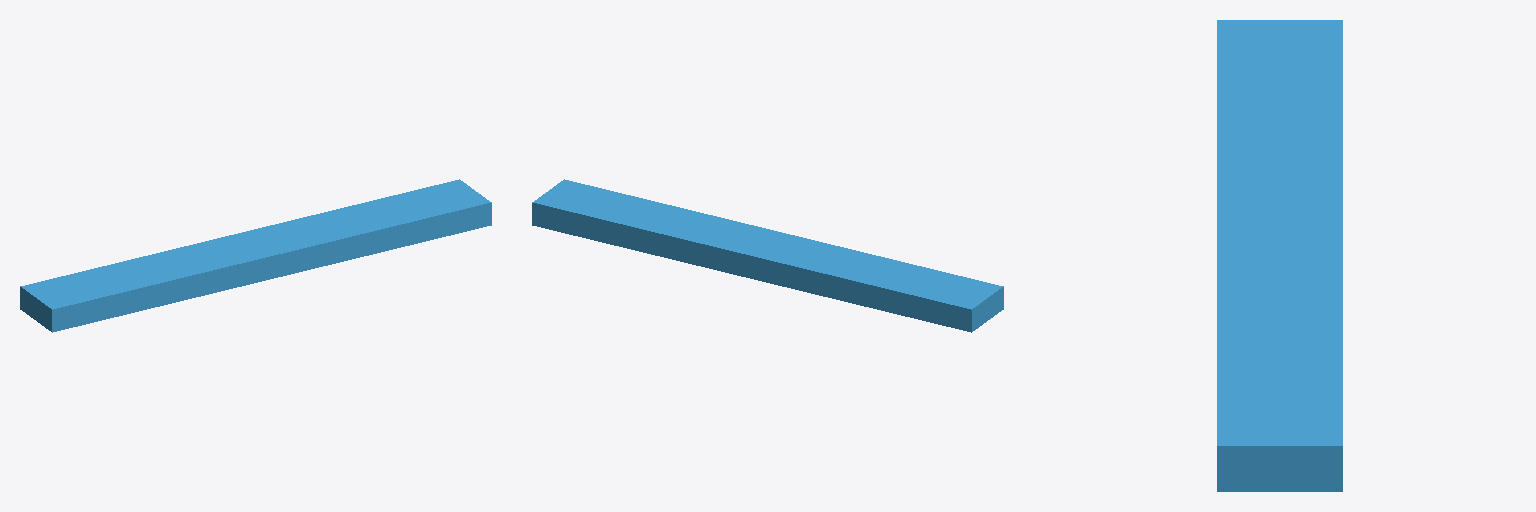
The robot description file, URDF, robot "conveyor_belt":
<?xml version="1.0"?>
<robot name="conveyor_belt">

<!-- conveyor belt is just a long flat box for objects to slide on it -->

<!-- world link -->
<link name="world"/>

<!-- base_link and its fixed joint -->
<joint name="joint_fix" type="fixed">
  <parent link="world"/>
  <child link="base_link"/>
</joint>


<link name="base_link">
  <collision>
    <origin xyz="0 0 0.1" rpy="0 0 0"/>
    <geometry>
      <box size="4 0.5 0.2"/>
    </geometry>
  </collision>

  <visual>
    <origin xyz="0 0 0.1" rpy="0 0 0"/>
    <geometry>
      <box size="4 0.5 0.2"/>
    </geometry>
  </visual>

  <inertial>
    <origin xyz="0 0 0.1" rpy="0 0 0"/>
    <mass value="1"/>
    <inertia
      ixx="1.0" ixy="0.0" ixz="0.0"
      iyy="1.0" iyz="0.0"
      izz="1.0"/>
  </inertial>
</link>

<gazebo reference="base_link">
  <mu1>0</mu1>
  <mu2>0</mu2>
  <material>Gazebo/FlatBlack</material>
</gazebo>



</robot>

--- Render facts (derived) ---
The picture shows the robot from 3 angles, left to right: view 1: azimuth 30°, elevation 25°; view 2: azimuth 150°, elevation 25°; view 3: azimuth 270°, elevation 25°; orthographic projection.
Robot: conveyor_belt — 2 links, 1 joints (1 fixed); root link world; default pose: all joints at 0.
Visible links, largest first — view 1: base_link; view 2: base_link; view 3: base_link.
Boxes of the visible links, left/top/right/bottom form: base_link: left=20, top=179, right=491, bottom=332; base_link: left=532, top=179, right=1003, bottom=332; base_link: left=1217, top=20, right=1342, bottom=491.
Size in the robot's own frame: 4 by 0.5 by 0.2 metres.
Geometry: primitives only (box / cylinder / sphere), no mesh files.